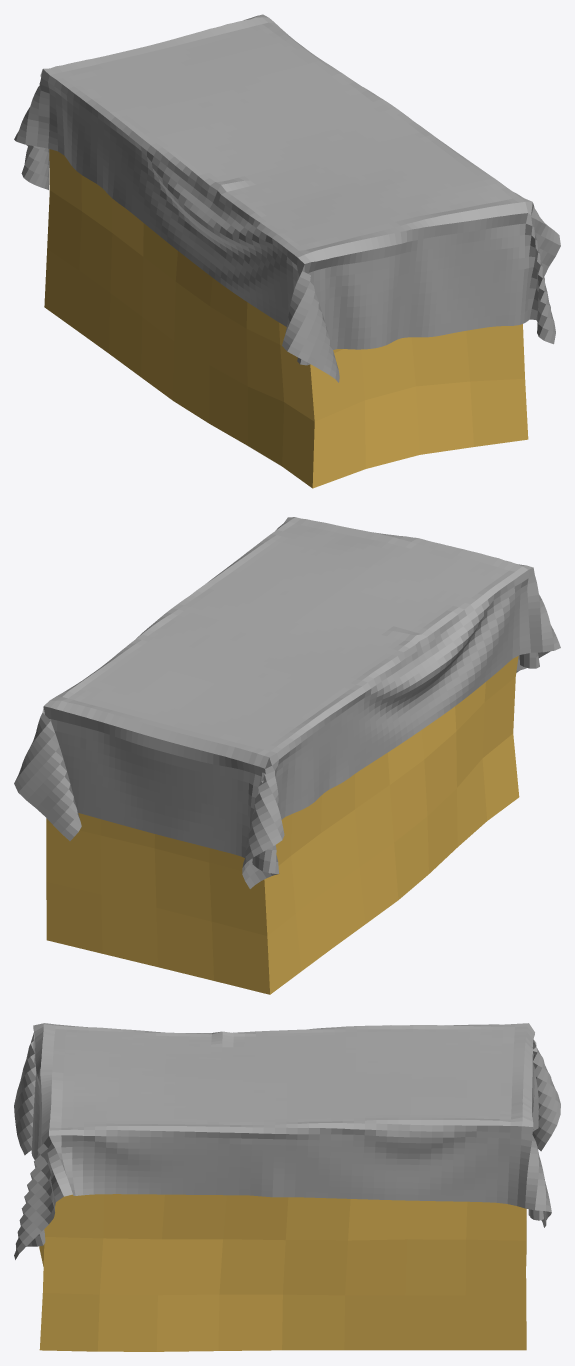
File: койка.fbx
3 views of the same model, one above another, from view 1: azimuth 30°, elevation 25°; view 2: azimuth 150°, elevation 25°; view 3: azimuth 270°, elevation 25° (orthographic). The views are drawn at different scales.
Parts seen in each view (by area): view 1: Плоскость, Куб; view 2: Плоскость, Куб; view 3: Плоскость, Куб.
Part boxes in pixels (x1,y1,x2,y2): Плоскость: (14,14,560,382); Куб: (44,149,528,488); Плоскость: (14,517,560,888); Куб: (46,656,519,994); Плоскость: (14,1023,560,1259); Куб: (39,1194,526,1351).
Size of the model in its own units: 148 by 116 by 254.
